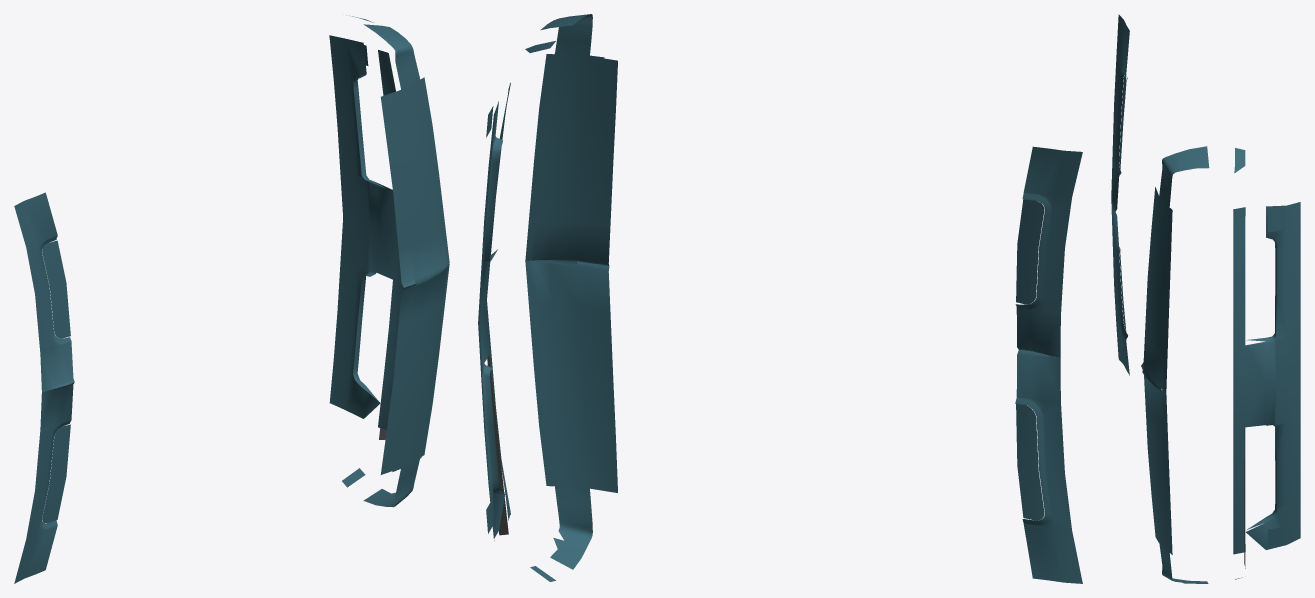
The model's file is CamaroFront.obj.
3 views of the same model, side by side, from view 1: azimuth 30°, elevation 25°; view 2: azimuth 150°, elevation 25°; view 3: azimuth 270°, elevation 25° (orthographic). The views are drawn at different scales.
Bounding box in the file's own units: 7.21 × 7.1 × 2.8.
